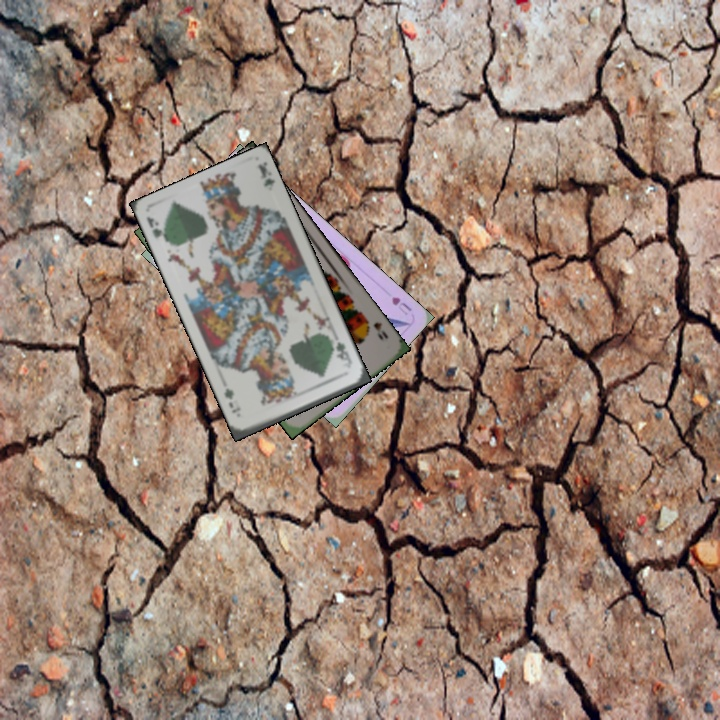GK: (142, 212, 172, 246), (332, 337, 354, 369)
HU: (387, 292, 415, 318)
S9: (360, 313, 391, 343)
